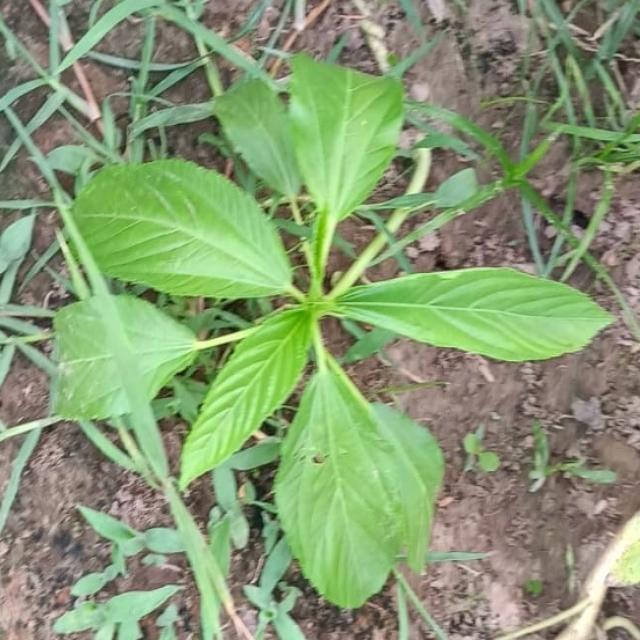plant: (56, 56, 611, 607)
